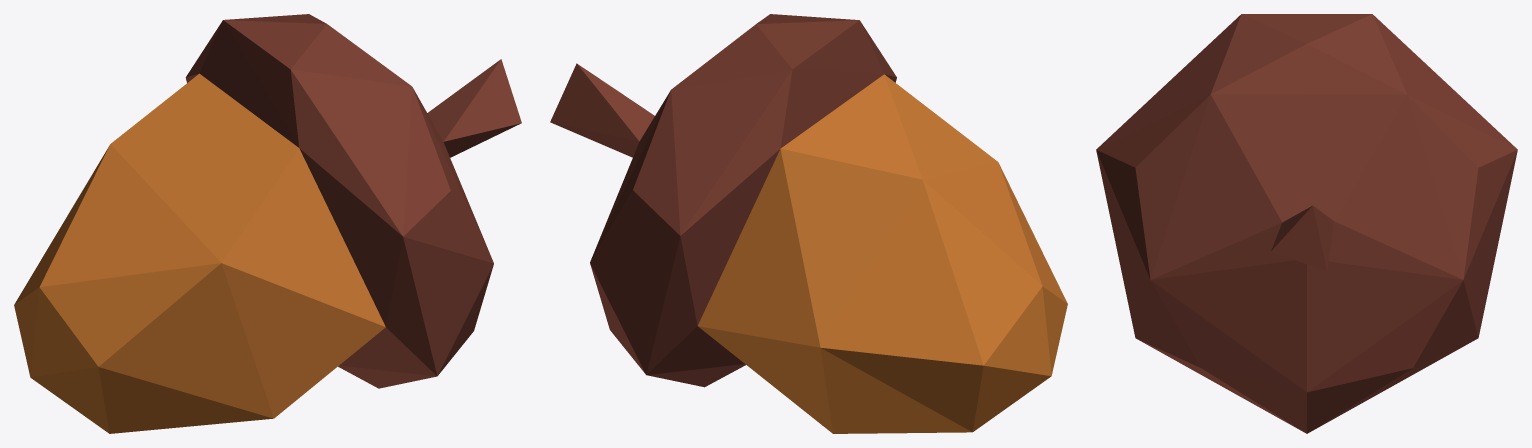
The model's file is acorn.glb.
3 views of the same model, side by side, from view 1: azimuth 30°, elevation 25°; view 2: azimuth 150°, elevation 25°; view 3: azimuth 270°, elevation 25° (orthographic). The views are drawn at different scales.
Parts seen in each view (by area): view 1: acorn; view 2: acorn; view 3: acorn.
Part boxes in pixels (left/top/right/bottom): acorn: left=14, top=14, right=521, bottom=433; acorn: left=550, top=14, right=1067, bottom=433; acorn: left=1096, top=14, right=1517, bottom=433.
Bounding box in the file's own units: 2.79 × 2.04 × 2.13.
